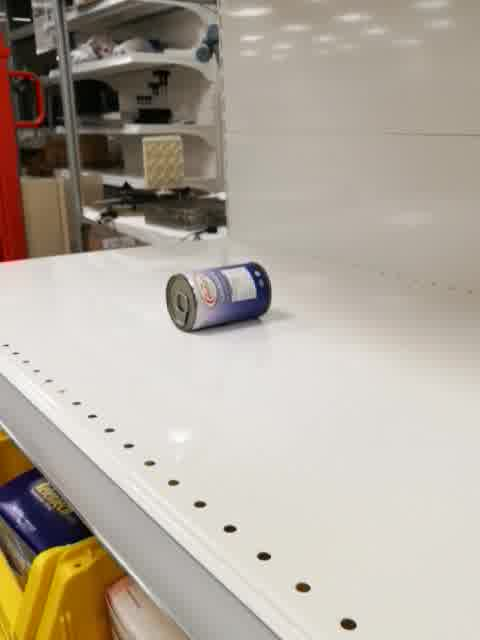sardine: (164, 261, 274, 334)
